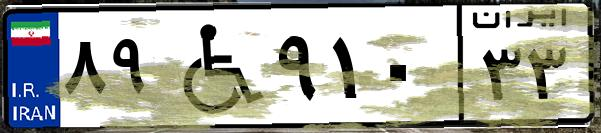0: (385, 28, 445, 110)
1: (330, 28, 385, 110)
3: (475, 38, 525, 113), (525, 38, 570, 115)
8: (57, 26, 110, 100)
9: (270, 28, 330, 110), (110, 28, 158, 98)
ژ (معلولین و جانبازان): (158, 12, 270, 120)
